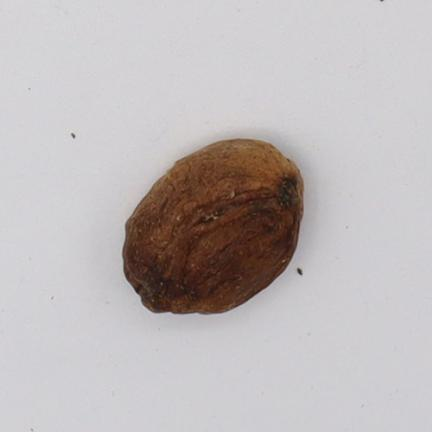full-black: (124, 139, 302, 312)
